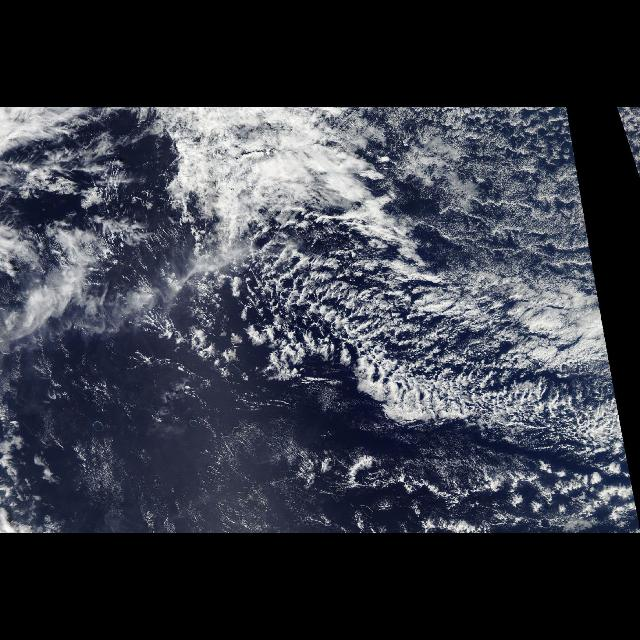Fish: (205, 224, 631, 474)
Sugar: (56, 382, 326, 530), (394, 109, 596, 279), (372, 429, 522, 489)
